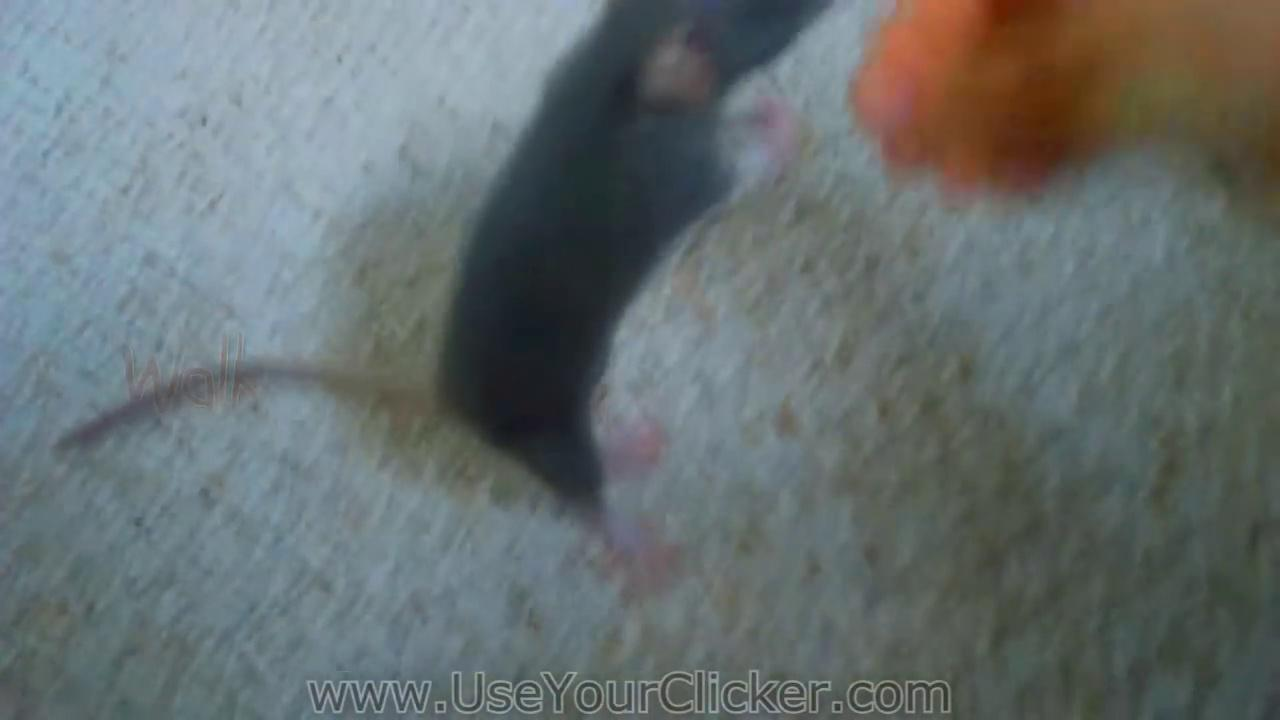rat: (53, 0, 838, 546)
